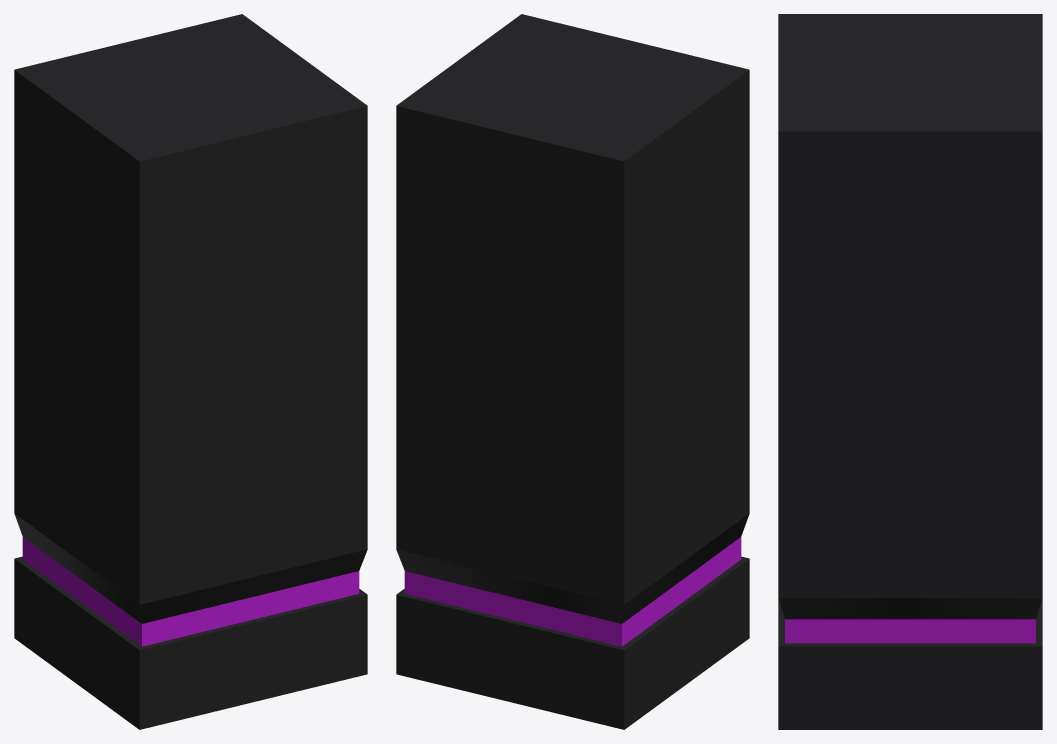
The model's file is Pillar_Small.fbx.
3 renders of one model, left to right at view 1: azimuth 30°, elevation 25°; view 2: azimuth 150°, elevation 25°; view 3: azimuth 270°, elevation 25°, orthographic. The views are drawn at different scales.
Visible parts, largest first — view 1: Pillar_Small1; view 2: Pillar_Small1; view 3: Pillar_Small1.
Boxes of the visible parts, x1,y1,x2,y2 form: Pillar_Small1: (14, 14, 367, 729); Pillar_Small1: (396, 14, 749, 729); Pillar_Small1: (778, 14, 1042, 729).
Size of the model in its own units: 2.1 by 5 by 2.
